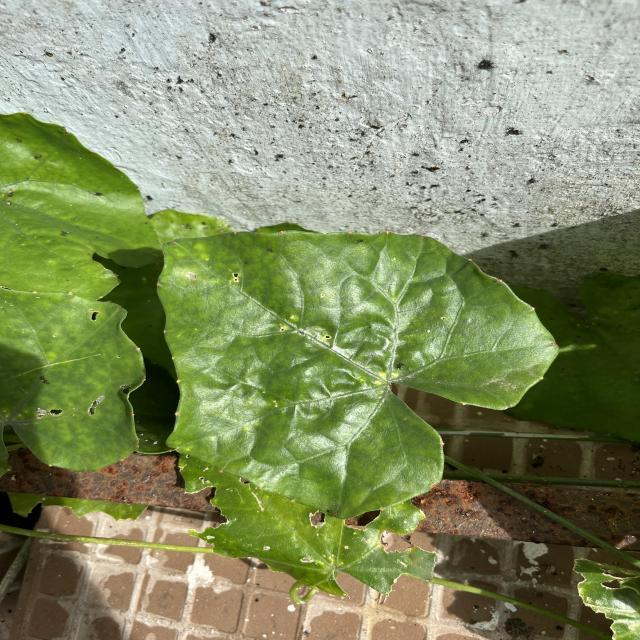Coccinia grandis: (146, 202, 564, 522)
